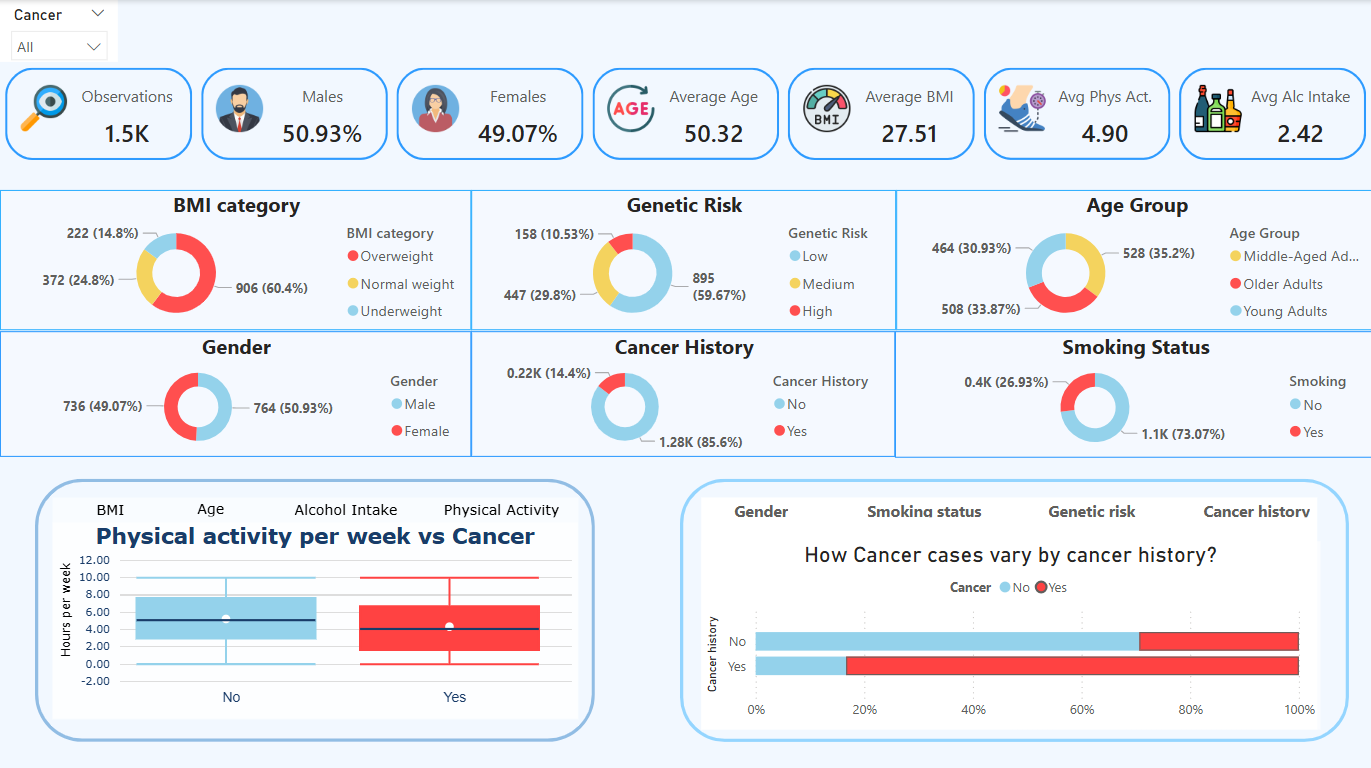

Layout of this report page (visuals, bound fields, positions):
{"tool":"powerbi","page":{"name":"Dashboard","canvas":[1280,720],"ordinal":0},"visuals":[{"type":"donutChart","title":"BMI category ","fields":{"Category":["The_Cancer_data_1500_V2.BMI_Category"],"Y":["CountNonNull(The_Cancer_data_1500_V2.Cancer)"]},"box":[0,176.3,438.5,130.6],"z":0,"group":"g7"},{"type":"donutChart","title":"Gender ","fields":{"Y":["CountNonNull(The_Cancer_data_1500_V2.Cancer)"],"Category":["The_Cancer_data_1500_V2.Gender2"]},"box":[0,307.9,438.2,116.7],"z":0,"group":"g9"},{"type":"shape","box":[632.9,445,622.5,244.9],"z":0,"group":"g3"},{"type":"group","id":"g1","title":"boxplot with shape","box":[32.6,445.2,521.2,244.9],"z":0},{"type":"shape","box":[32.6,445.2,521.1,244.8],"z":0,"group":"g1"},{"type":"actionButton","title":"Alcohol Intake","box":[263.1,462.9,118.2,20.7],"z":0,"group":"g6"},{"type":"group","id":"g2","title":"Boxplots","box":[49.1,486.7,489.3,182.6],"z":0,"group":"g5"},{"type":"donutChart","title":"Age Group ","fields":{"Category":["The_Cancer_data_1500_V2.AgeGroup"],"Y":["CountNonNull(The_Cancer_data_1500_V2.Cancer)"]},"box":[833.6,176.3,447.2,130.6],"z":1000,"group":"g7"},{"type":"donutChart","title":"Smoking Status","fields":{"Y":["CountNonNull(The_Cancer_data_1500_V2.Cancer)"],"Category":["The_Cancer_data_1500_V2.Smoker"]},"box":[832.9,308.1,446.9,117.9],"z":1000,"group":"g9"},{"type":"group","id":"g3","title":"stacked bar with shape","box":[632.9,445,622.5,244.9],"z":1000},{"type":"group","id":"g4","title":"Group 1","box":[652.5,462.3,573.2,216],"z":1000,"group":"g3"},{"type":"group","id":"g5","title":"Group 2","box":[49.1,462.9,489.3,206.4],"z":1000,"group":"g1"},{"type":"group","id":"g6","title":"Boxplot Ui","box":[68.8,462.9,458.2,20.7],"z":1000,"group":"g5"},{"type":"actionButton","title":"Physical Activity","box":[407.6,462.9,119.5,20.7],"z":1000,"group":"g6"},{"type":"slicer","fields":{"Values":["The_Cancer_data_1500_V2.Cancer"]},"box":[0,0,109.9,57.8],"z":2000},{"type":"group","id":"g7","title":"diagnosed","box":[0,176.3,1281,131.6],"z":2000,"group":"g8"},{"type":"donutChart","title":"Genetic Risk ","fields":{"Category":["The_Cancer_data_1500_V2.GeneticRisk2"],"Y":["CountNonNull(The_Cancer_data_1500_V2.Cancer)"]},"box":[438.5,176.3,395.1,130.6],"z":2000,"group":"g7"},{"type":"donutChart","title":"Cancer History","fields":{"Y":["CountNonNull(The_Cancer_data_1500_V2.Cancer)"],"Category":["The_Cancer_data_1500_V2.CancerHistory2"]},"box":[438.2,308.1,394.7,116.7],"z":2000,"group":"g9"},{"type":"actionButton","title":"Age","box":[159.4,462.9,73.5,20.7],"z":2000,"group":"g6"},{"type":"BoxWhiskerChart1455240051538","title":"Physical activity per week vs Cancer","fields":{"Groups":["The_Cancer_data_1500_V2.Cancer"],"Samples":["The_Cancer_data_1500_V2.0"],"Values":["Sum(The_Cancer_data_1500_V2.PhysicalActivity)"]},"box":[49.1,486.7,488.6,182.6],"z":2000,"group":"g2"},{"type":"cardVisual","fields":{"Data":["The_Cancer_data_1500_V2.Total Observations","The_Cancer_data_1500_V2.Male Percentage","The_Cancer_data_1500_V2.Female Percentage","The_Cancer_data_1500_V2.Average Age","The_Cancer_data_1500_V2.Average BMi","The_Cancer_data_1500_V2.Average Physical Activity","The_Cancer_data_1500_V2.Average Alcohol"]},"box":[0,57.8,1279.7,96.9],"z":3000},{"type":"actionButton","title":"BMI","box":[68.8,462.9,68.3,20.7],"z":3000,"group":"g6"},{"type":"hundredPercentStackedBarChart","title":"How Cancer cases vary by cancer history?","fields":{"Category":["The_Cancer_data_1500_V2.CancerHistory2"],"Y":["CountNonNull(The_Cancer_data_1500_V2.Cancer)"],"Series":["The_Cancer_data_1500_V2.Cancer"]},"box":[652.5,503.1,576.1,175.2],"z":3000,"group":"g4"},{"type":"group","id":"g8","title":"Group 3","box":[0,176.3,1281,250.7],"z":4000},{"type":"group","id":"g9","title":"Group 1","box":[0,307.9,1279.8,118.1],"z":4000,"group":"g8"},{"type":"actionButton","title":"Smoking status","box":[801.3,462.3,117.3,19.6],"z":4000,"group":"g4"},{"type":"actionButton","title":"cancer history","box":[1111,462.3,117.3,19.6],"z":5000,"group":"g4"},{"type":"actionButton","title":"Gender","box":[652.6,462.3,111.4,20],"z":6000,"group":"g4"},{"type":"actionButton","title":"Genetic risk","box":[957.7,462.3,117.3,19.6],"z":7000,"group":"g4"}]}

Visuals, with their boxes in screenshot pixels (x1, y1, x2, y2), scaled from the page's 1280x720 canvas onto the 1371x768 screenshot:
"BMI category " donutChart: box(0, 188, 470, 327)
"Gender " donutChart: box(0, 328, 469, 453)
shape: box(678, 475, 1345, 736)
"boxplot with shape" group: box(35, 475, 593, 736)
shape: box(35, 475, 593, 736)
"Alcohol Intake" actionButton: box(282, 494, 408, 516)
"Boxplots" group: box(53, 519, 577, 714)
"Age Group " donutChart: box(893, 188, 1370, 327)
"Smoking Status" donutChart: box(892, 329, 1370, 454)
"stacked bar with shape" group: box(678, 475, 1345, 736)
"Group 1" group: box(699, 493, 1313, 724)
"Group 2" group: box(53, 494, 577, 714)
"Boxplot Ui" group: box(74, 494, 564, 516)
"Physical Activity" actionButton: box(437, 494, 565, 516)
slicer - The_Cancer_data_1500_V2.Cancer: box(0, 0, 118, 62)
"diagnosed" group: box(0, 188, 1370, 328)
"Genetic Risk " donutChart: box(470, 188, 893, 327)
"Cancer History" donutChart: box(469, 329, 892, 453)
"Age" actionButton: box(171, 494, 249, 516)
"Physical activity per week vs Cancer" BoxWhiskerChart1455240051538: box(53, 519, 576, 714)
cardVisual - The_Cancer_data_1500_V2.Total Observations x The_Cancer_data_1500_V2.Male Percentage: box(0, 62, 1370, 165)
"BMI" actionButton: box(74, 494, 147, 516)
"How Cancer cases vary by cancer history?" hundredPercentStackedBarChart: box(699, 537, 1316, 724)
"Group 3" group: box(0, 188, 1370, 455)
"Group 1" group: box(0, 328, 1370, 454)
"Smoking status" actionButton: box(858, 493, 984, 514)
"cancer history" actionButton: box(1190, 493, 1316, 514)
"Gender" actionButton: box(699, 493, 818, 514)
"Genetic risk" actionButton: box(1026, 493, 1151, 514)
